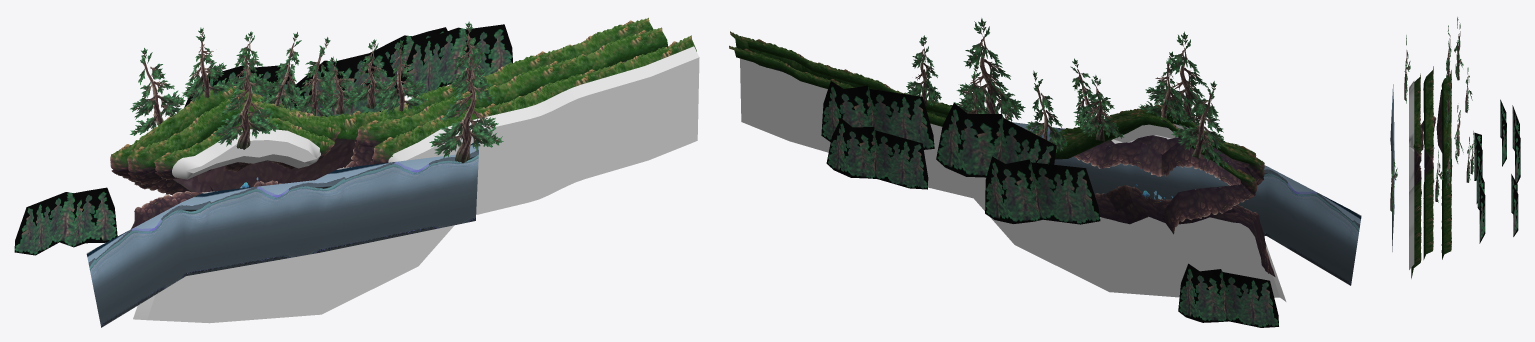
The model's file is Level 5 Crossroads Pt 4.FBX.
3 views of the same model, side by side, from view 1: azimuth 30°, elevation 25°; view 2: azimuth 150°, elevation 25°; view 3: azimuth 270°, elevation 25° (orthographic). The views are drawn at different scales.
Visible parts, largest first — view 1: Black Pt 4 _1, Fog Pt 4, Pine Tree Group Pt 4, Trees pt 4, Ground Pt 4 _2, Trees pt 4 FG, Ground Pt 4 _1, Ground Pt 4 _2 FG, Ground Pt 4 _2 BG, Black Pt 4 _2, Ground Pt 4 _1 BG, Dirt BG Pt 4_1 (+2 smaller); view 2: Pine Tree Group Pt 4, Black Pt 4 _1, Fog Pt 4, Trees pt 4, Ground Pt 4 _1, Ground Pt 4 _1 BG, Trees pt 4 FG, Ground Pt 4 _2, Ground Pt 4 _2 FG, Ground Pt 4 _2 BG, Ground Pt 4 _1 FG, Black Pt 4 _2 (+1 smaller); view 3: Pine Tree Group Pt 4, Trees pt 4, Ground Pt 4 _2, Ground Pt 4 _2 FG, Ground Pt 4 _1 BG, Ground Pt 4 _1, Ground Pt 4 _2 BG, Black Pt 4 _1, Ground Pt 4 _1 FG, Fog Pt 4, Trees pt 4 FG, Black Pt 4 _2 (+1 smaller).
Boxes of the visible parts, box(x1,y1,x2,y2) form: Black Pt 4 _1: box(133, 46, 699, 323); Fog Pt 4: box(86, 142, 479, 327); Pine Tree Group Pt 4: box(14, 24, 512, 255); Trees pt 4: box(130, 21, 488, 135); Ground Pt 4 _2: box(164, 27, 667, 208); Trees pt 4 FG: box(213, 51, 503, 163); Ground Pt 4 _1: box(127, 97, 341, 184); Ground Pt 4 _2 FG: box(370, 35, 696, 164); Ground Pt 4 _2 BG: box(352, 17, 653, 136); Black Pt 4 _2: box(172, 129, 320, 179); Ground Pt 4 _1 BG: box(110, 86, 356, 195); Dirt BG Pt 4_1: box(173, 138, 356, 192); Pine Tree Group Pt 4: box(821, 81, 1278, 327); Black Pt 4 _1: box(739, 36, 1286, 301); Fog Pt 4: box(978, 109, 1361, 285); Trees pt 4: box(905, 35, 1227, 167); Ground Pt 4 _1: box(1061, 104, 1264, 185); Ground Pt 4 _1 BG: box(1051, 112, 1257, 234); Trees pt 4 FG: box(953, 18, 1218, 124); Ground Pt 4 _2: box(741, 36, 1268, 273); Ground Pt 4 _2 FG: box(730, 31, 1275, 276); Ground Pt 4 _2 BG: box(729, 45, 945, 126); Ground Pt 4 _1 FG: box(1101, 118, 1256, 167); Black Pt 4 _2: box(1111, 121, 1240, 146); Pine Tree Group Pt 4: box(1474, 99, 1520, 243); Trees pt 4: box(1435, 17, 1476, 202); Ground Pt 4 _2: box(1422, 113, 1436, 259); Ground Pt 4 _2 FG: box(1411, 120, 1423, 278); Ground Pt 4 _1 BG: box(1441, 70, 1451, 180); Ground Pt 4 _1: box(1423, 66, 1433, 161); Ground Pt 4 _2 BG: box(1441, 165, 1452, 259); Black Pt 4 _1: box(1409, 146, 1414, 269); Ground Pt 4 _1 FG: box(1413, 73, 1420, 156); Fog Pt 4: box(1390, 84, 1394, 251); Trees pt 4 FG: box(1390, 35, 1410, 217); Black Pt 4 _2: box(1409, 81, 1414, 151).
Size of what is drawn, in the model's own units: 6237 by 1613 by 2782.
